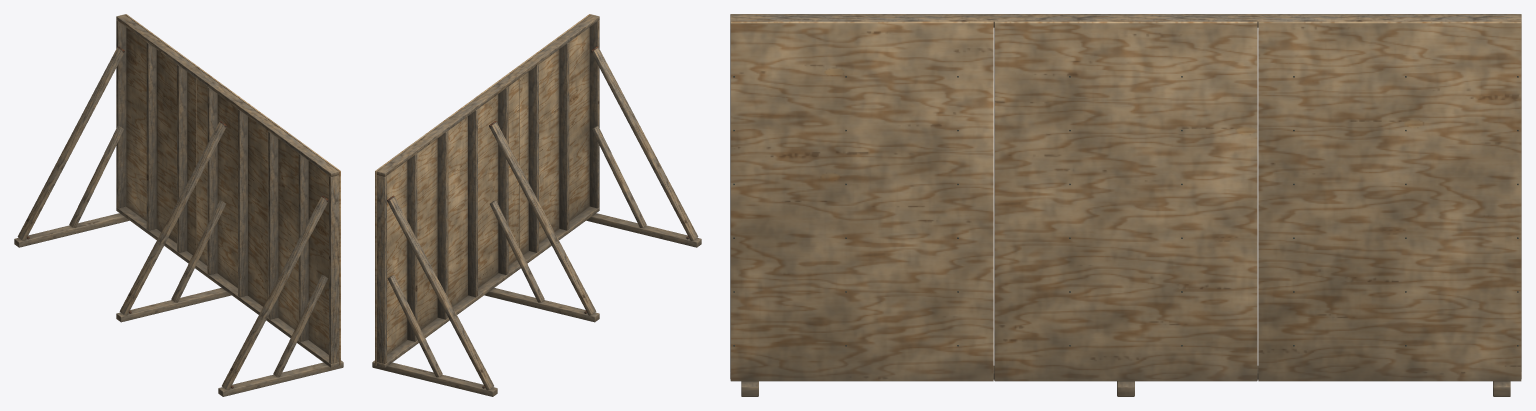
File: SM_Barricade_Plywood_4m_Body.fbx
The picture shows the model from 3 angles, left to right: view 1: azimuth 30°, elevation 25°; view 2: azimuth 150°, elevation 25°; view 3: azimuth 270°, elevation 25°; orthographic projection. The views are drawn at different scales.
Visible parts, largest first — view 1: Barricade_Plywood_4m_Body; view 2: Barricade_Plywood_4m_Body; view 3: Barricade_Plywood_4m_Body.
Boxes of the visible parts, x1,y1,x2,y2 form: Barricade_Plywood_4m_Body: (14,14,343,396); Barricade_Plywood_4m_Body: (372,14,701,396); Barricade_Plywood_4m_Body: (730,14,1521,396).
Size of the model in its own units: 4 by 1.3 by 2.06.
1 material, 1 textured.
